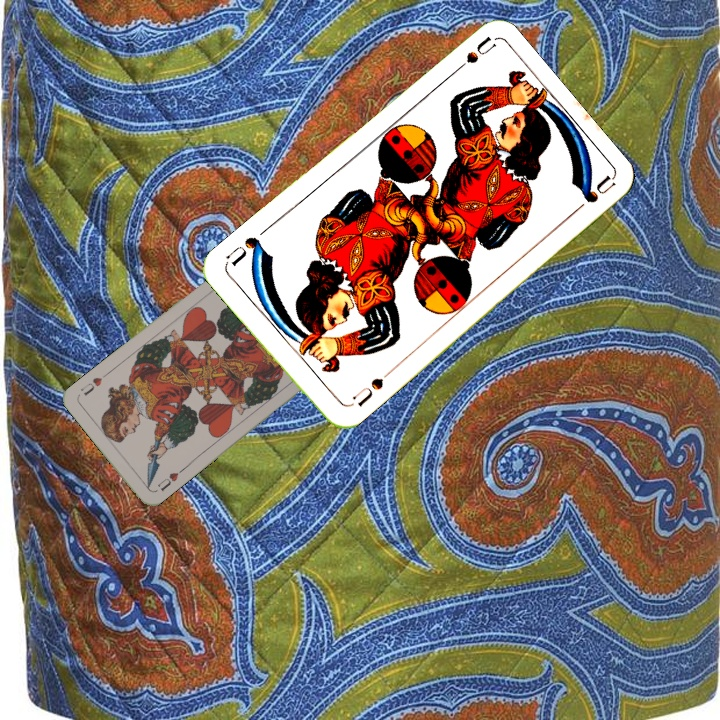HU: (153, 468, 181, 494)
SU: (445, 33, 497, 80), (348, 373, 386, 409)
